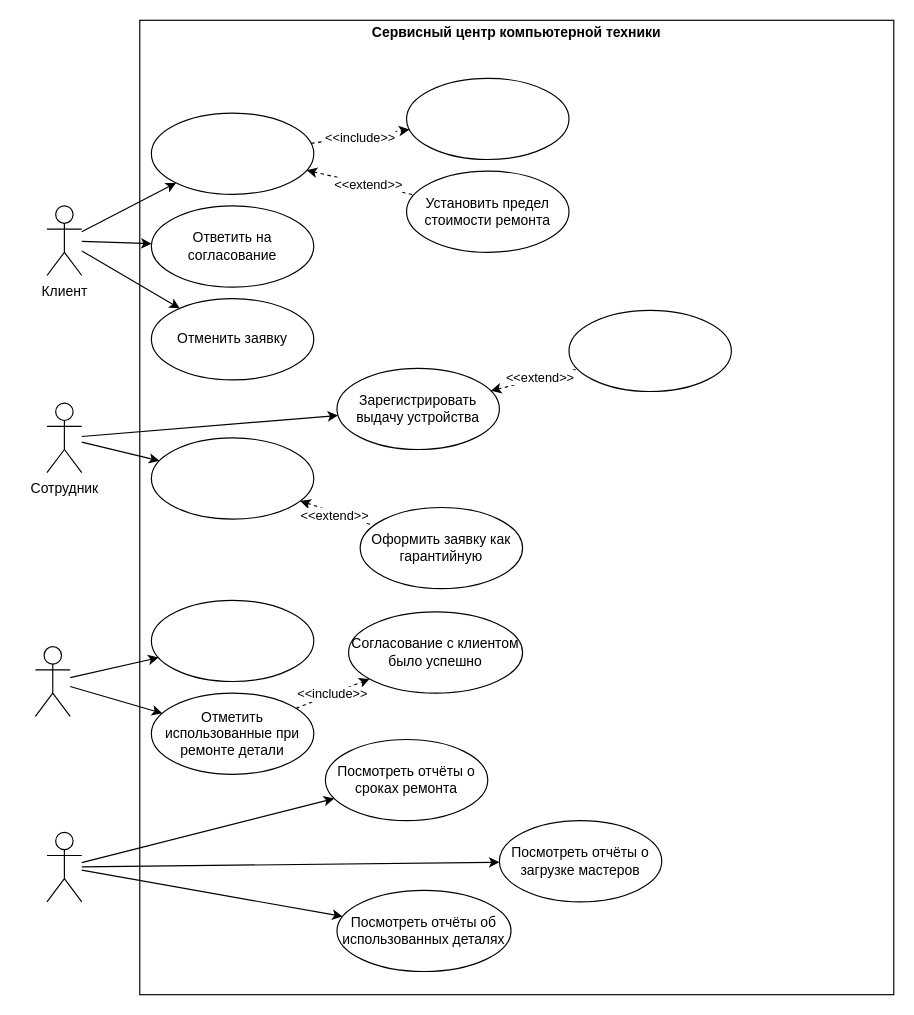
This 914x1015 diagram has some shape labels left out. The shapes that lost their labels are listed below. From the top down, each one's centre as x and y in pixels, then its label:
point (487, 118): Указать наблюдаемые неисправности
point (232, 153): Создать заявку
point (649, 350): Зарегистрировать оплату ремонта
point (232, 478): Зарегистрировать устройство
point (232, 640): Занести результаты диагностики
point (52, 681): Мастер
point (64, 866): Руководитель
